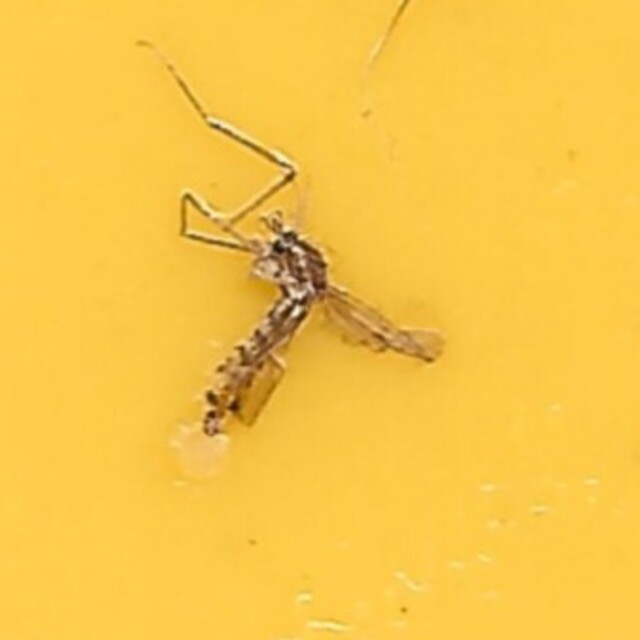Nematocera: (189, 200, 451, 440)
